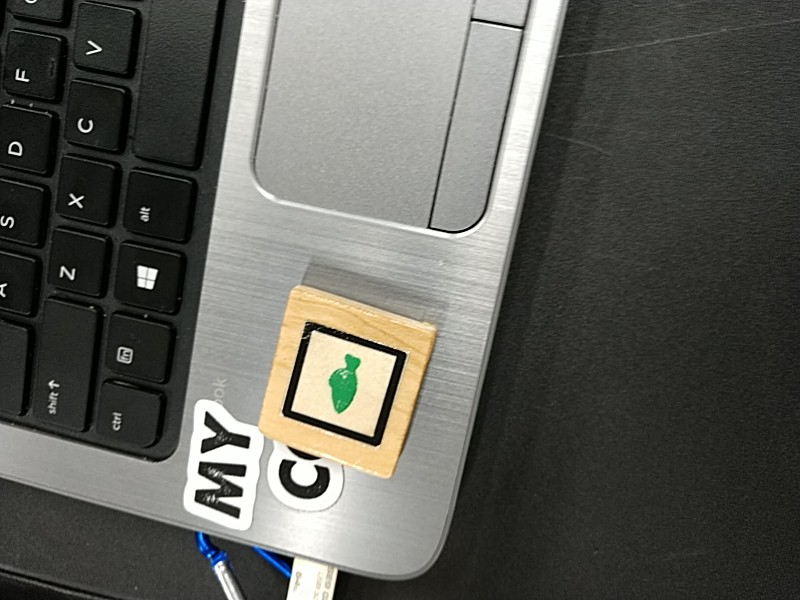Fish Tile: (280, 320, 409, 448)
